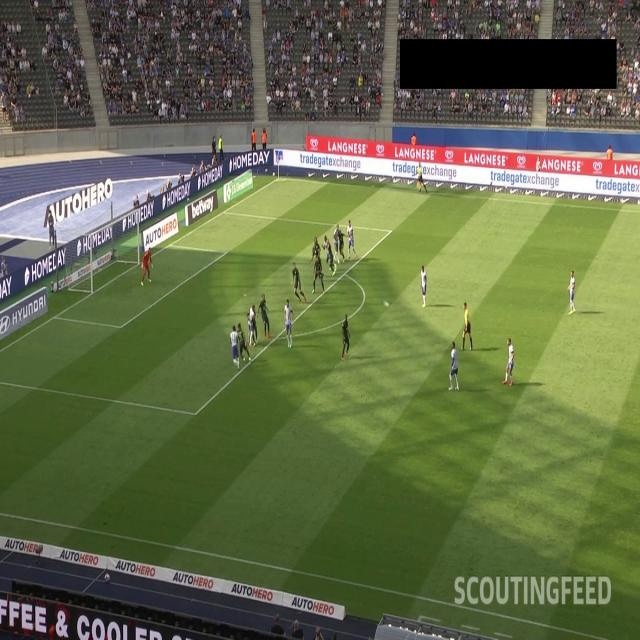ball: (384, 297, 390, 312)
player: (237, 322, 251, 364), (259, 296, 272, 340), (283, 300, 293, 348), (141, 246, 153, 286), (293, 260, 304, 303), (230, 326, 241, 369), (449, 341, 458, 392), (312, 255, 324, 292), (505, 337, 514, 386), (340, 313, 350, 357), (346, 218, 356, 257), (323, 234, 333, 270), (249, 310, 260, 340), (248, 304, 256, 344), (568, 270, 575, 315), (313, 236, 321, 272), (420, 265, 427, 305), (334, 222, 339, 263), (339, 230, 345, 260)
